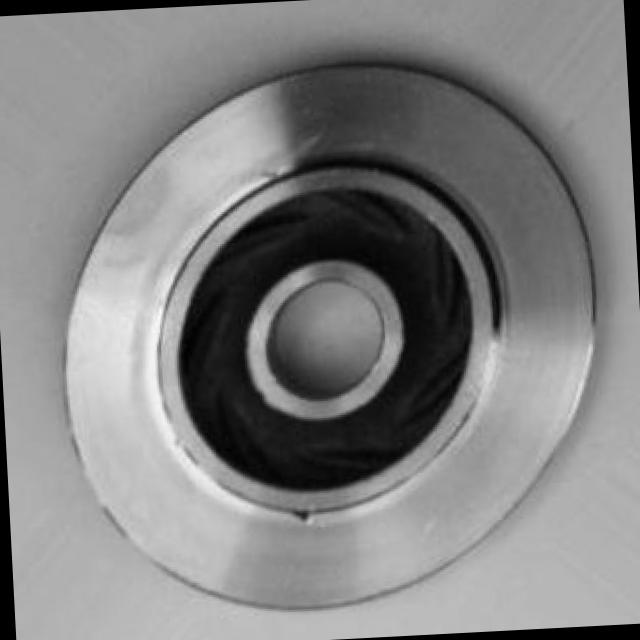Defect: (292, 504, 321, 530)
